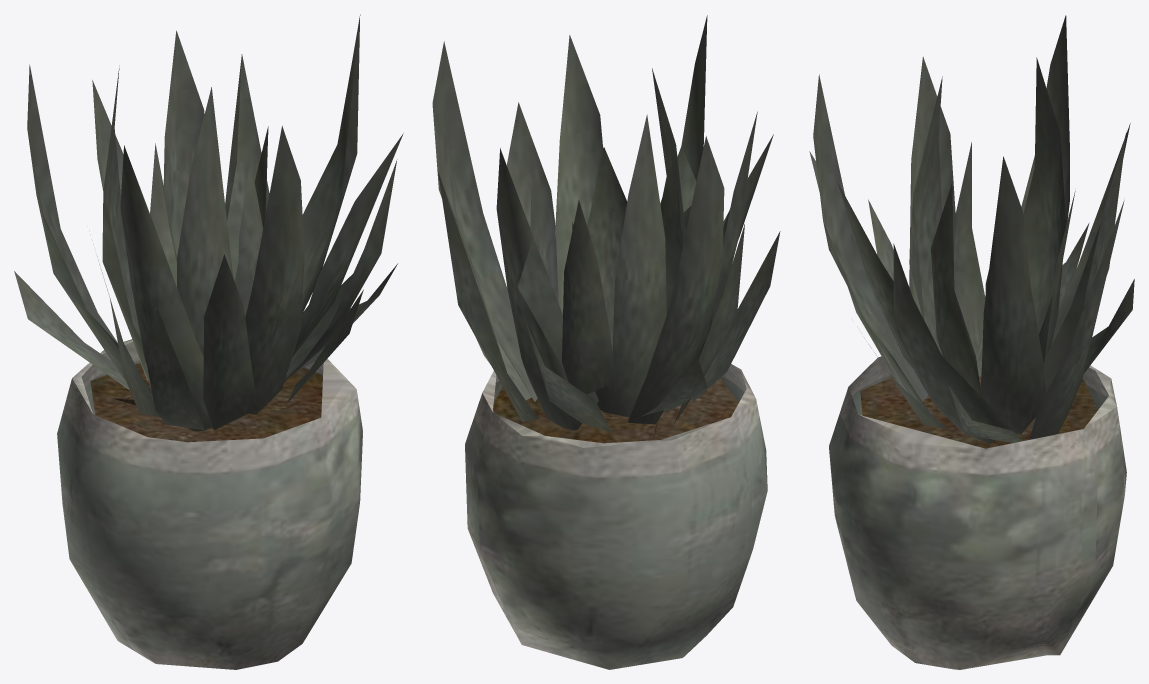
File: Plant0019.obj
3 renders of one model, left to right at view 1: azimuth 30°, elevation 25°; view 2: azimuth 150°, elevation 25°; view 3: azimuth 270°, elevation 25°, orthographic. The views are drawn at different scales.
Size of the model in its own units: 0.183 by 0.313 by 0.166.
Materials: 1 (1 with a texture image).
